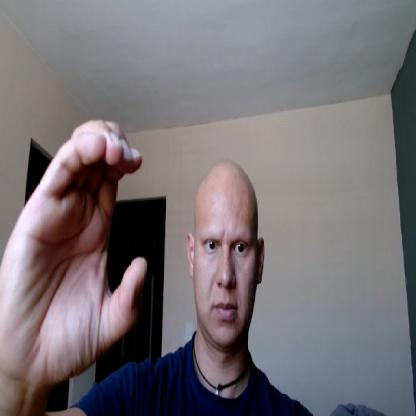C: (0, 120, 149, 383)
